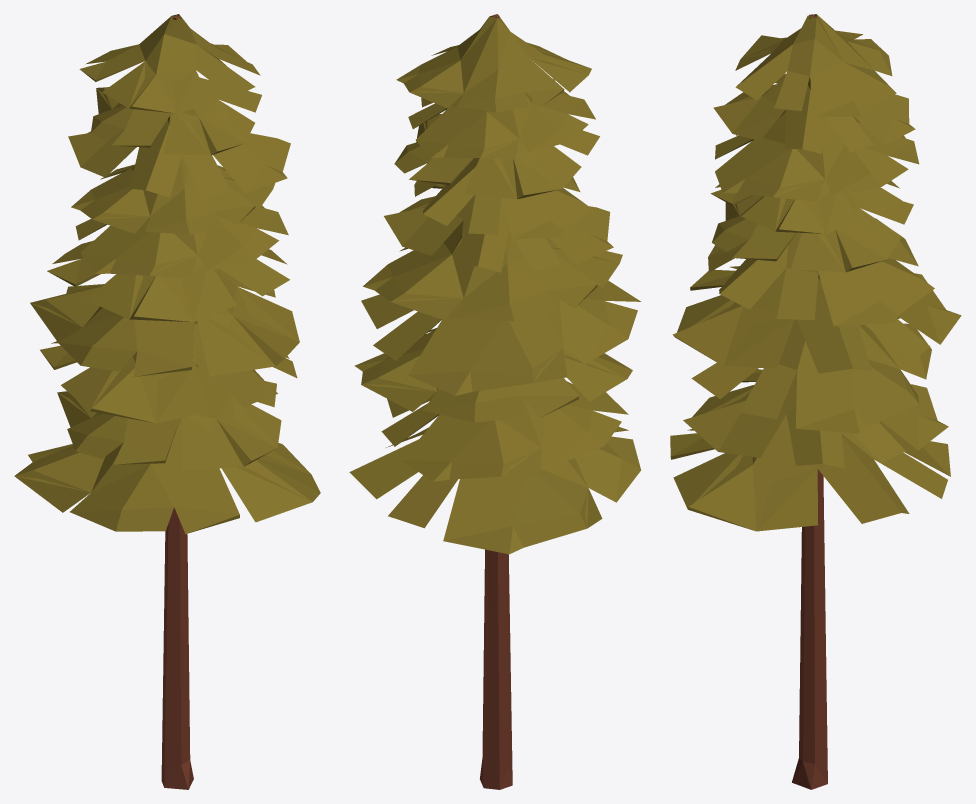
Rendered from pine_healthy_LOD2.fbx.
3 renders of one model, left to right at view 1: azimuth 30°, elevation 25°; view 2: azimuth 150°, elevation 25°; view 3: azimuth 270°, elevation 25°, orthographic.
Parts seen in each view (by area): view 1: Circle.029, Circle.026, Circle.028, Circle.020, Circle.027, Circle.024, Circle.025, Circle.022, Circle.023, Circle.021, pine_trunk.002; view 2: Circle.029, Circle.026, Circle.025, Circle.028, Circle.020, Circle.027, Circle.021, Circle.024, Circle.022, pine_trunk.002, Circle.023; view 3: Circle.029, Circle.026, Circle.027, Circle.020, Circle.025, Circle.022, Circle.028, Circle.024, pine_trunk.002, Circle.021, Circle.023.
Boxes of the visible parts, x1,y1,x2,y2 form: Circle.029: [14, 418, 320, 533]; Circle.026: [30, 268, 299, 376]; Circle.028: [57, 363, 281, 470]; Circle.020: [79, 14, 260, 113]; Circle.027: [40, 321, 297, 423]; Circle.024: [75, 205, 288, 278]; Circle.025: [47, 240, 289, 322]; Circle.022: [68, 113, 290, 198]; Circle.023: [71, 156, 275, 234]; Circle.021: [91, 77, 261, 155]; pine_trunk.002: [161, 15, 193, 789]; Circle.029: [349, 426, 640, 554]; Circle.026: [361, 280, 641, 395]; Circle.025: [363, 220, 622, 321]; Circle.028: [381, 381, 628, 481]; Circle.020: [396, 14, 591, 112]; Circle.027: [354, 328, 632, 422]; Circle.021: [408, 78, 595, 159]; Circle.024: [384, 184, 613, 272]; Circle.022: [394, 114, 599, 199]; pine_trunk.002: [480, 14, 512, 789]; Circle.023: [414, 158, 592, 239]; Circle.029: [670, 414, 950, 531]; Circle.026: [672, 266, 961, 373]; Circle.027: [691, 316, 931, 433]; Circle.020: [735, 14, 896, 116]; Circle.025: [708, 218, 934, 326]; Circle.022: [715, 110, 919, 201]; Circle.028: [683, 369, 948, 468]; Circle.024: [712, 193, 913, 272]; pine_trunk.002: [792, 14, 827, 789]; Circle.021: [713, 73, 915, 153]; Circle.023: [710, 180, 901, 233].
Size of the model in its own units: 960 by 2873 by 990.
